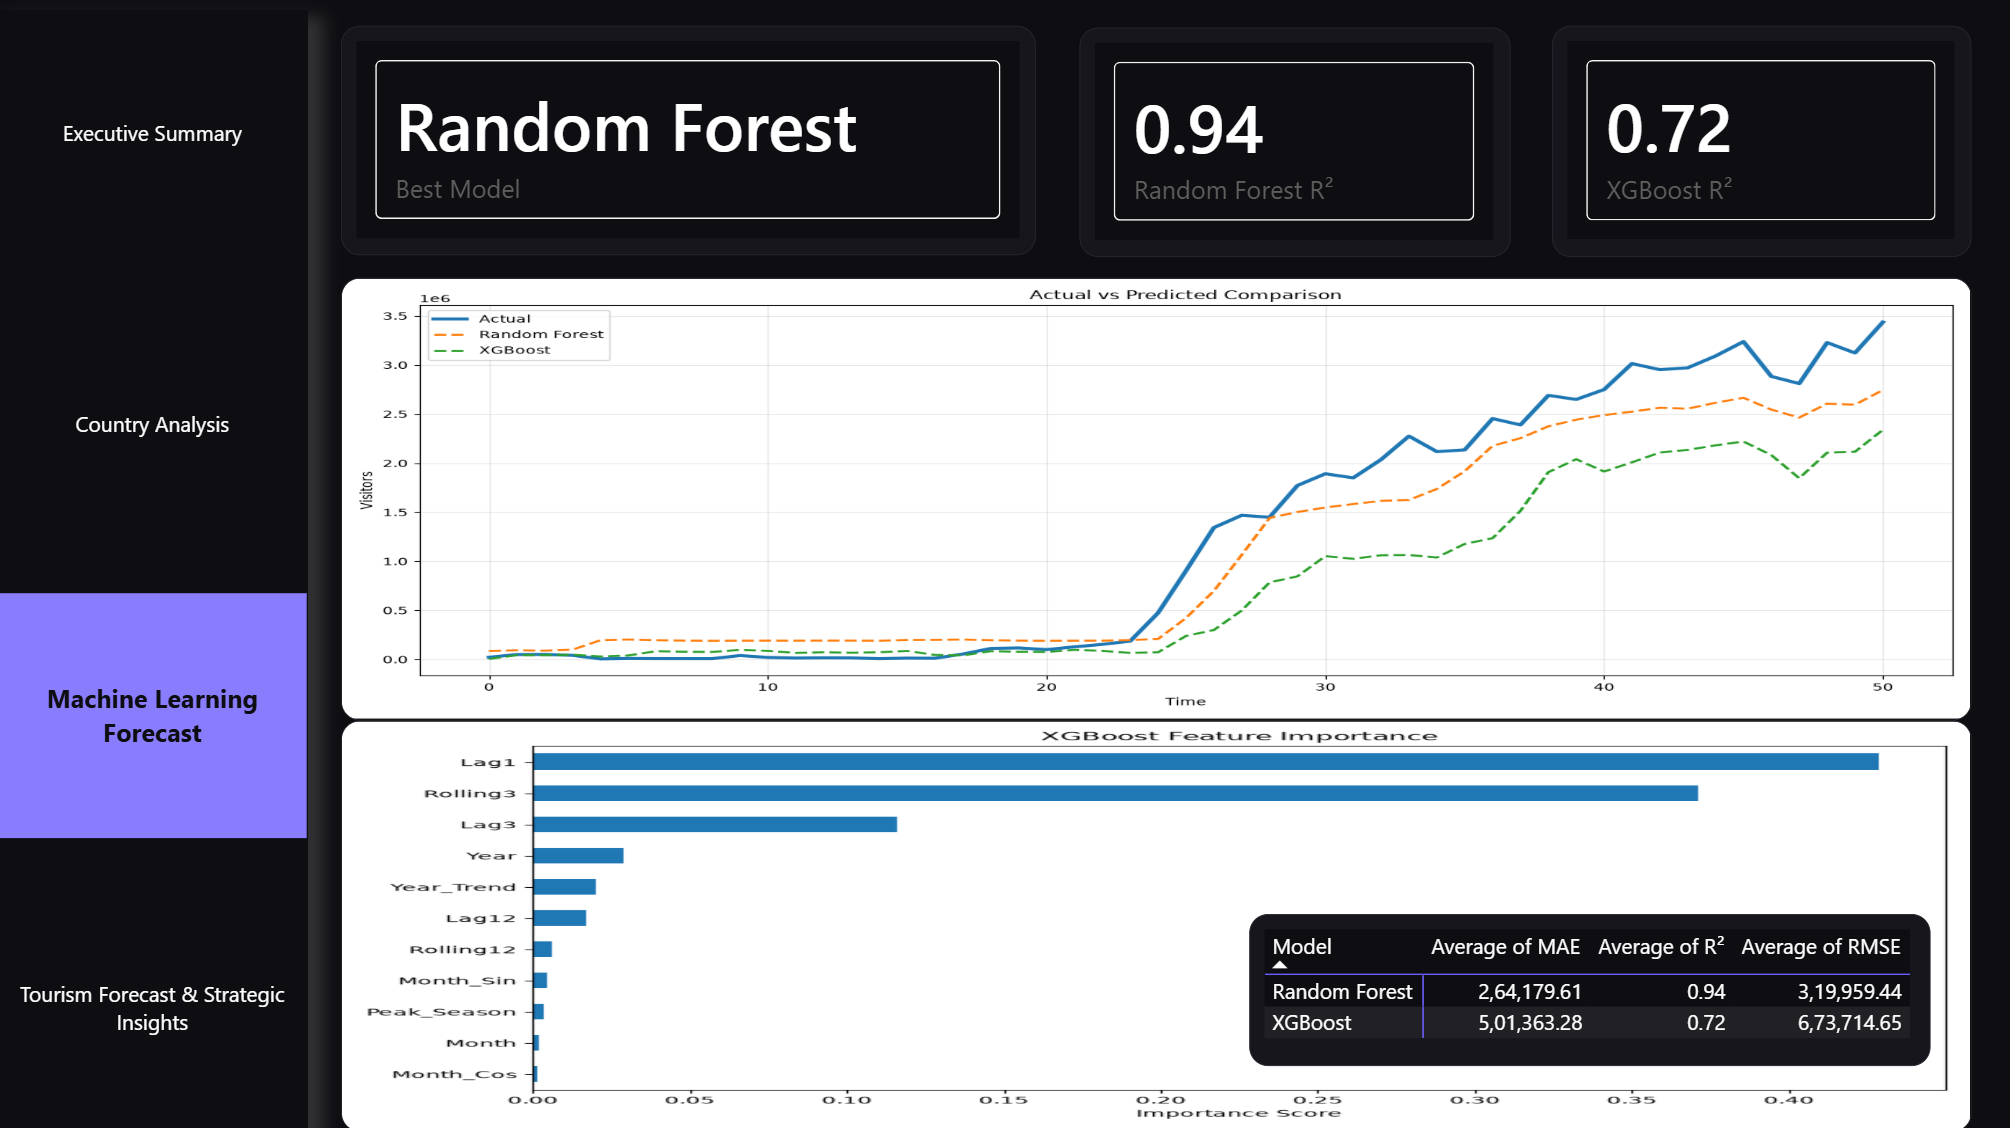

The page's visual inventory and layout, read from the dashboard file:
{"tool":"powerbi","page":{"name":" Machine Learning Forecast","canvas":[1280,720],"ordinal":2},"visuals":[{"type":"cardVisual","fields":{"Data":["JTD_cleaned_1.Best Model"]},"box":[217.6,18.3,441.3,145.5],"z":0},{"type":"cardVisual","fields":{"Data":["JTD_cleaned_1.Random Forest R²"]},"box":[687.1,19.6,273.8,145.5],"z":1000},{"type":"cardVisual","fields":{"Data":["JTD_cleaned_1.XGBoost R²"]},"box":[986.6,18.3,266.5,146.7],"z":2000},{"type":"image","box":[217.6,178.5,1035.5,281.2],"z":3000},{"type":"image","box":[217.6,459.7,1035.5,260.4],"z":4000},{"type":"pivotTable","fields":{"Rows":["Table.Model"],"Values":["Avg(Table.MAE)","Avg(Table.R²)","Avg(Table.RMSE)"]},"box":[794.7,581.9,432.8,96.6],"z":5000},{"type":"pageNavigator","box":[0,8.6,196.8,711.5],"z":5001}]}

Visuals, with their boxes on the page's 1280x720 design canvas (x1, y1, x2, y2). These are canvas units, not pixel positions in the 2010x1128 screenshot, which may show the page scaled, cropped or inside an application window:
cardVisual - JTD_cleaned_1.Best Model: 218 18 659 164
cardVisual - JTD_cleaned_1.Random Forest R²: 687 20 961 165
cardVisual - JTD_cleaned_1.XGBoost R²: 987 18 1253 165
image: 218 178 1253 460
image: 218 460 1253 720
pivotTable - Table.Model x Avg(Table.MAE): 795 582 1228 678
pageNavigator: 0 9 197 720
